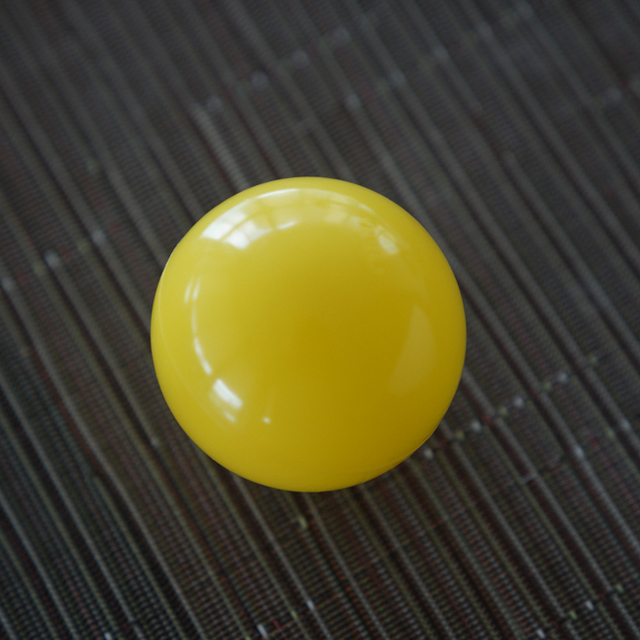Ball: (149, 172, 466, 491)
